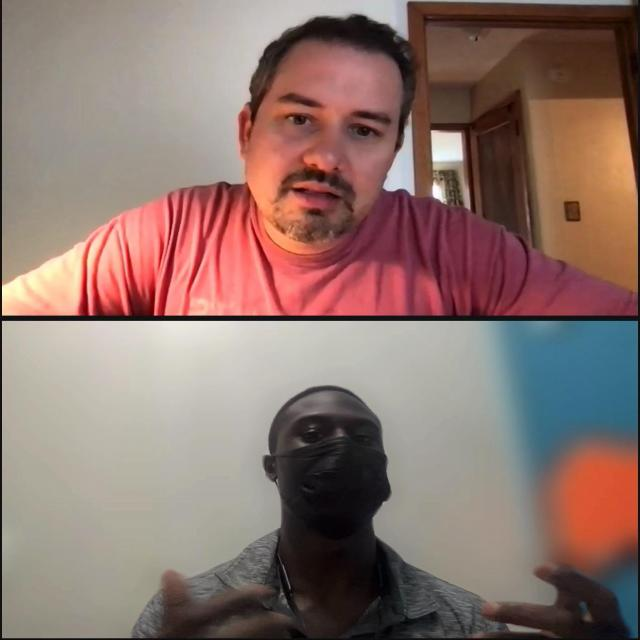face: (235, 36, 413, 246), (264, 389, 389, 533)
